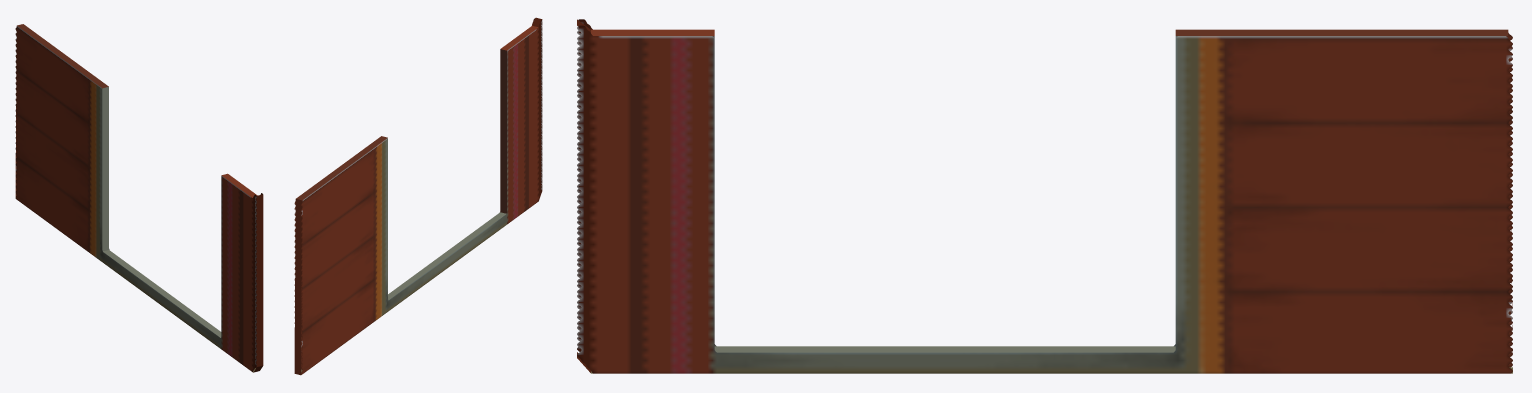
The model's file is pz_native_location_restaurant_spiffos_01_6_frame.obj.
The picture shows the model from 3 angles, left to right: view 1: azimuth 30°, elevation 25°; view 2: azimuth 150°, elevation 25°; view 3: azimuth 270°, elevation 25°; orthographic projection. The views are drawn at different scales.
Parts seen in each view (by area): view 1: pz_native_location_restaurant_spiffos_01_6_frame; view 2: pz_native_location_restaurant_spiffos_01_6_frame; view 3: pz_native_location_restaurant_spiffos_01_6_frame.
Part boxes in pixels (box(x1,y1,x2,y2)): pz_native_location_restaurant_spiffos_01_6_frame: box(15, 24, 263, 372); pz_native_location_restaurant_spiffos_01_6_frame: box(294, 17, 542, 375); pz_native_location_restaurant_spiffos_01_6_frame: box(577, 19, 1512, 373).
Size of the model in its own units: 0.04 by 1.06 by 2.54.
1 material, 1 textured.
